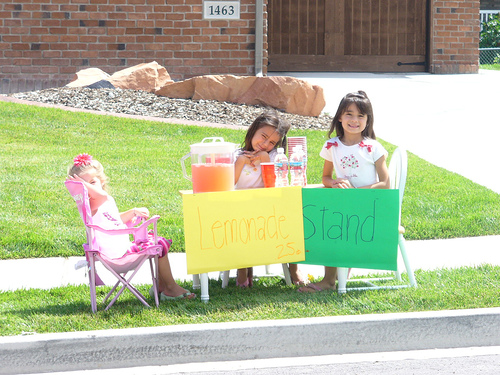without_mask: (69, 157, 109, 203), (336, 97, 373, 141), (246, 115, 283, 157)
